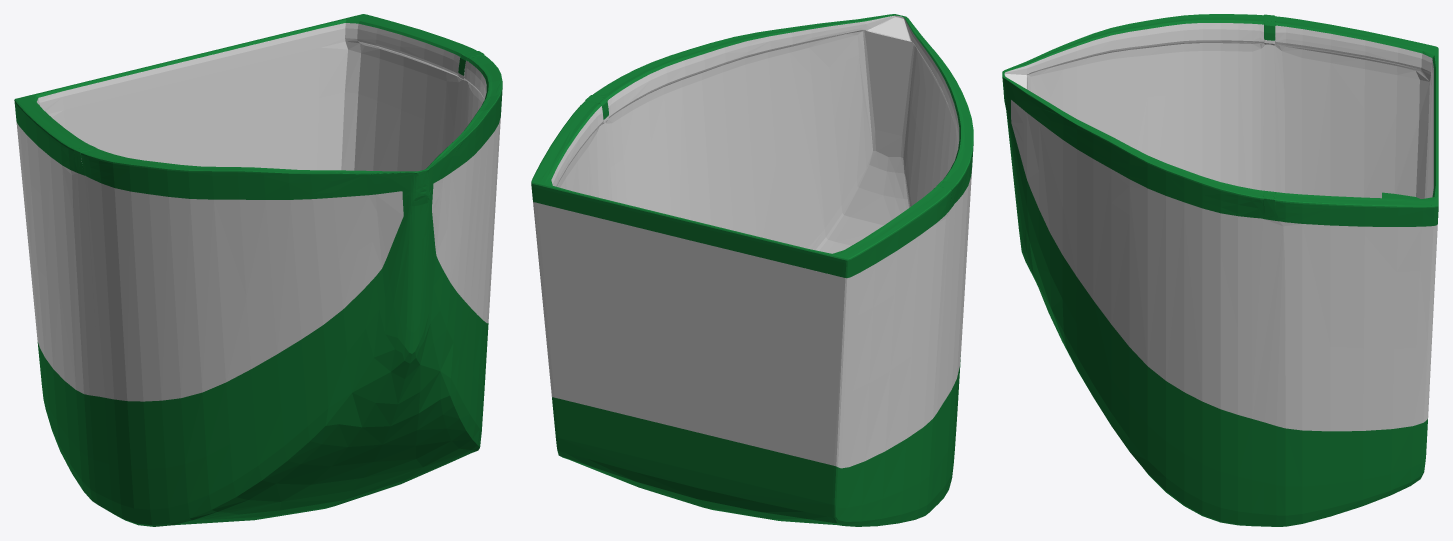
The model's file is sh-bsby-rowboat.glb.
3 renders of one model, left to right at view 1: azimuth 30°, elevation 25°; view 2: azimuth 150°, elevation 25°; view 3: azimuth 270°, elevation 25°, orthographic. The views are drawn at different scales.
Visible parts, largest first — view 1: Rowboat_Hull_Cube.006; view 2: Rowboat_Hull_Cube.006; view 3: Rowboat_Hull_Cube.006.
Part boxes in pixels (bbox=[...]): Rowboat_Hull_Cube.006: bbox=[14, 14, 502, 526]; Rowboat_Hull_Cube.006: bbox=[531, 14, 973, 526]; Rowboat_Hull_Cube.006: bbox=[1002, 14, 1438, 526].
Bounding box in the file's own units: 1 × 1 × 1.
